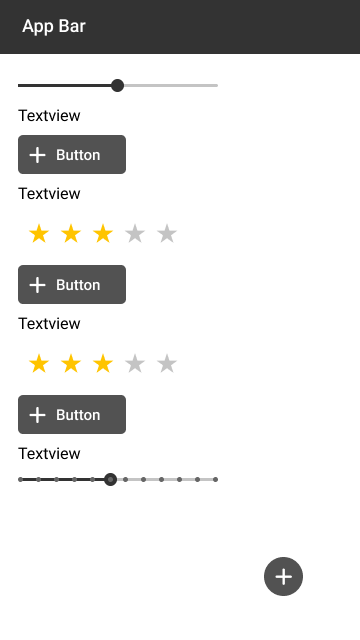buttonImage: (16, 263, 128, 306), (15, 133, 129, 175), (17, 393, 128, 436)
floatingButton: (264, 556, 303, 596)
ratingBar: (28, 350, 178, 376), (31, 221, 176, 245)
slider: (15, 472, 220, 487)
slider1: (14, 75, 221, 94)
textView: (18, 107, 81, 124), (18, 315, 81, 332), (18, 447, 82, 463), (20, 187, 82, 202)
toolbar: (1, 1, 360, 55)
